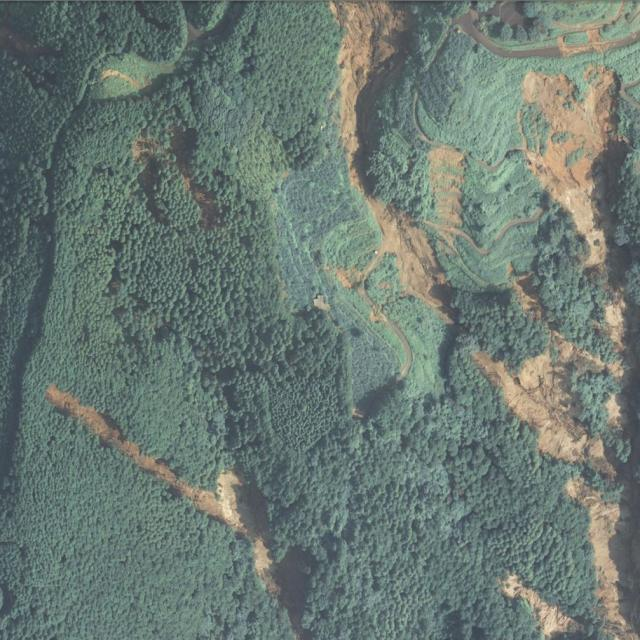landslide: (44, 384, 311, 637), (475, 332, 617, 479), (521, 65, 619, 266), (343, 73, 409, 249), (367, 196, 454, 325), (568, 479, 636, 640), (499, 572, 581, 639), (358, 3, 403, 57)
